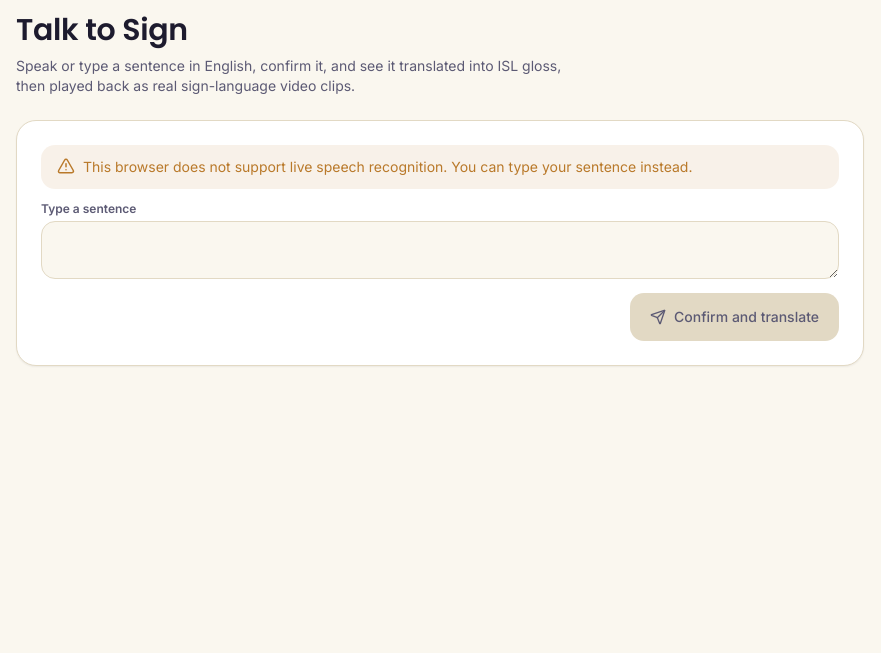
Test: SoundSignsClient › shows an honest warning for gloss words with no matching video, never a fabricated clip
Type "hello thumbs up" into the text box labelled "Type a sentence". click: (440, 250)
box: [41,221,839,279]
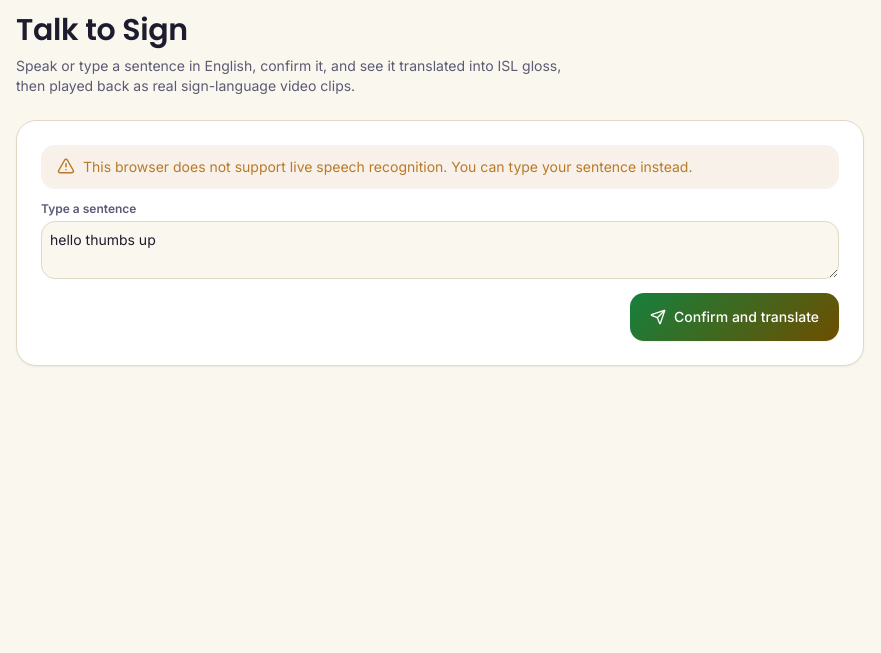
Click the button "Confirm and translate". click: (735, 317)
box: [630,293,839,341]
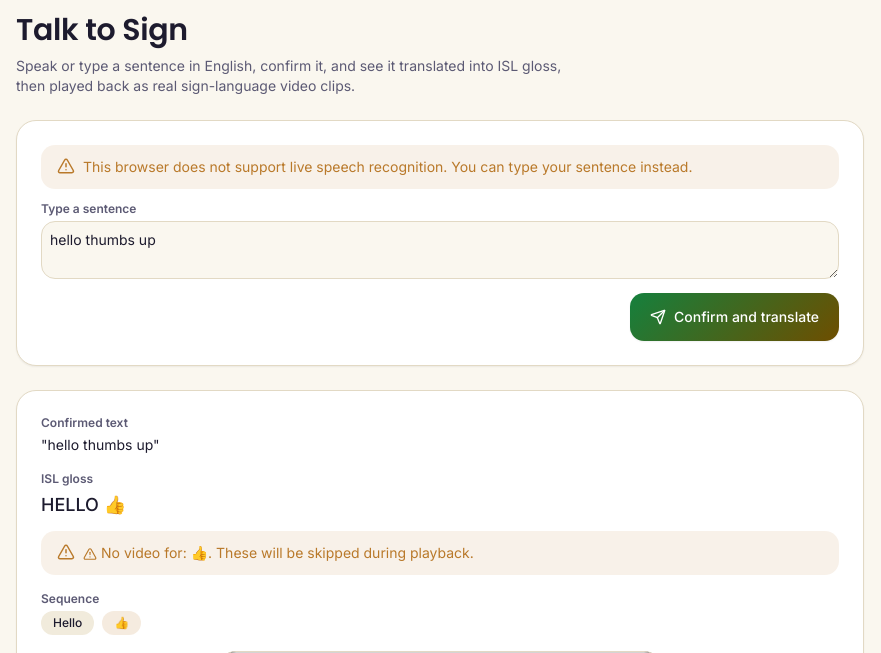
expect the text "No video for: 👍. These will be skipped during playback." is shown: met, box [83,543,474,563]
